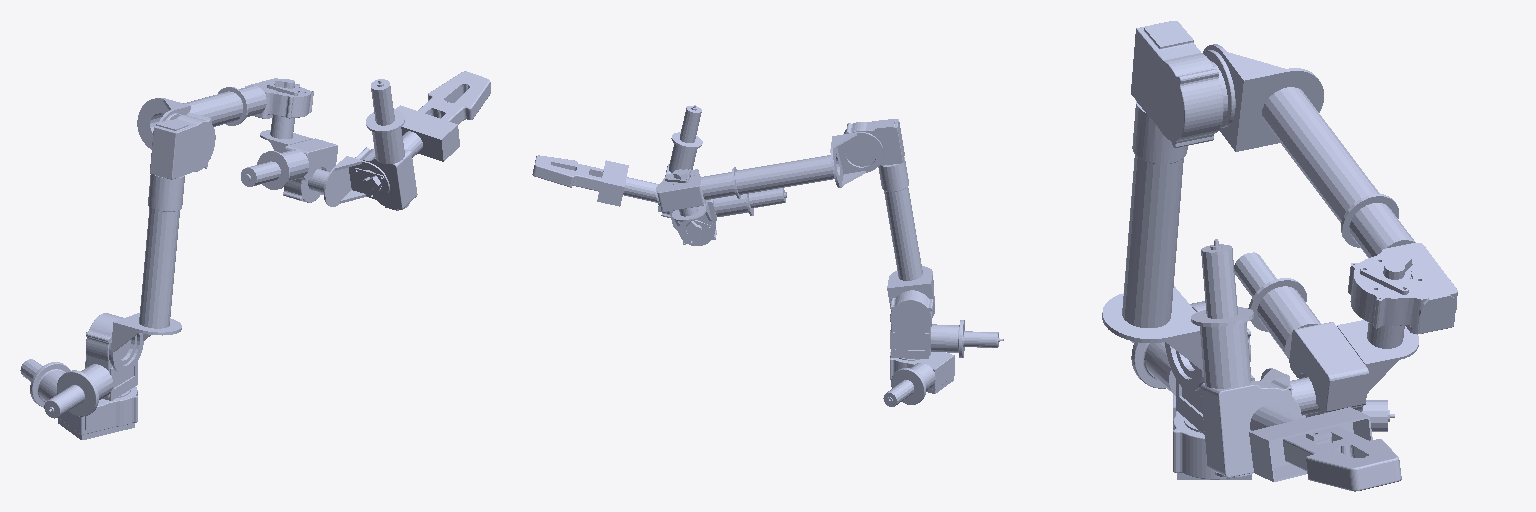
robot.urdf — deneme16:
<?xml version="1.0" encoding="utf-8"?>
<!-- This URDF was automatically created by SolidWorks to URDF Exporter! Originally created by [author] ([email redacted]) 
     Commit Version: 1.6.0-1-g15f4949  Build Version: 1.6.7594.29634
     For more information, please see http://wiki.ros.org/sw_urdf_exporter -->
<robot
  name="deneme16">

  <link name="world"> </link>
  <joint name="dummy_joint" type="fixed">
    <origin xyz="0 0 0" rpy="0 0 0"/>
    <parent link="world"/>
    <child link="base_link"/>
  </joint>

  <link
    name="base_link">
    <inertial>
      <origin
        xyz="-0.0542341068703452 0.0675948685686234 0.0313556778042014"
        rpy="0 0 0" />
      <mass
        value="0.740526244302131" />
      <inertia
        ixx="0.00207135317797409"
        ixy="0.000441549375992959"
        ixz="3.04066808160143E-05"
        iyy="0.000922136149425879"
        iyz="-0.000121847666080401"
        izz="0.00262750332404895" />
    </inertial>
    <visual>
      <origin
        xyz="0 0 0"
        rpy="0 0 0" />
      <geometry>
        <mesh
          filename="package://deneme16/meshes/base_link.STL" />
      </geometry>
      <material
        name="">
        <color
          rgba="0.792156862745098 0.819607843137255 0.933333333333333 1" />
      </material>
    </visual>
    <collision>
      <origin
        xyz="0 0 0"
        rpy="0 0 0" />
      <geometry>
        <mesh
          filename="package://deneme16/meshes/base_link.STL" />
      </geometry>
    </collision>
  </link>
  <link
    name="link_1">
    <inertial>
      <origin
        xyz="0.0563922003354066 0.0295380738737359 0.0117055663612383"
        rpy="0 0 0" />
      <mass
        value="0.70671764820646" />
      <inertia
        ixx="0.00194089525200429"
        ixy="0.000430757616896897"
        ixz="0.000126720562963551"
        iyy="0.000980020835821606"
        iyz="-0.000477646338854546"
        izz="0.00234570033722001" />
    </inertial>
    <visual>
      <origin
        xyz="0 0 0"
        rpy="0 0 0" />
      <geometry>
        <mesh
          filename="package://deneme16/meshes/link_1.STL" />
      </geometry>
      <material
        name="">
        <color
          rgba="0.792156862745098 0.819607843137255 0.933333333333333 1" />
      </material>
    </visual>
    <collision>
      <origin
        xyz="0 0 0"
        rpy="0 0 0" />
      <geometry>
        <mesh
          filename="package://deneme16/meshes/link_1.STL" />
      </geometry>
    </collision>
  </link>
  <joint
    name="joint_1"
    type="revolute">
    <origin
      xyz="-0.022 0.039 0.053371"
      rpy="1.731 -1.5708 0" />
    <parent
      link="base_link" />
    <child
      link="link_1" />
    <axis
      xyz="1 0 0" />
    <limit
      lower="-3.14"
      upper="3.14"
      effort="200"
      velocity="20" />
  </joint>
  <link
    name="link_2">
    <inertial>
      <origin
        xyz="0.0605724796544812 0.268894582951781 0.0478990958098943"
        rpy="0 0 0" />
      <mass
        value="0.857612894315898" />
      <inertia
        ixx="0.00209575920536199"
        ixy="-0.000577783198589211"
        ixz="3.25501897094838E-05"
        iyy="0.00115615406946479"
        iyz="-1.43201857904065E-05"
        izz="0.00281128486223931" />
    </inertial>
    <visual>
      <origin
        xyz="0 0 0"
        rpy="0 0 0" />
      <geometry>
        <mesh
          filename="package://deneme16/meshes/link_2.STL" />
      </geometry>
      <material
        name="">
        <color
          rgba="0.792156862745098 0.819607843137255 0.933333333333333 1" />
      </material>
    </visual>
    <collision>
      <origin
        xyz="0 0 0"
        rpy="0 0 0" />
      <geometry>
        <mesh
          filename="package://deneme16/meshes/link_2.STL" />
      </geometry>
    </collision>
  </link>
  <joint
    name="joint_2"
    type="revolute">
    <origin
      xyz="0.09063 -0.0069794 0.029226"
      rpy="0 0.29102 -1.5708" />
    <parent
      link="link_1" />
    <child
      link="link_2" />
    <axis
      xyz="0 0 -1" />
    <limit
      lower="-3.14"
      upper="3.14"
      effort="200"
      velocity="20" />
  </joint>
  <link
    name="link_3">
    <inertial>
      <origin
        xyz="-0.225456306268306 -0.050103264114186 0.0445637536606487"
        rpy="0 0 0" />
      <mass
        value="0.500739434351218" />
      <inertia
        ixx="0.00041351591711629"
        ixy="-0.000338986154992068"
        ixz="-6.16909127959655E-05"
        iyy="0.00175634762440097"
        iyz="2.92810915397088E-07"
        izz="0.00180906267182259" />
    </inertial>
    <visual>
      <origin
        xyz="0 0 0"
        rpy="0 0 0" />
      <geometry>
        <mesh
          filename="package://deneme16/meshes/link_3.STL" />
      </geometry>
      <material
        name="">
        <color
          rgba="0.792156862745098 0.819607843137255 0.933333333333333 1" />
      </material>
    </visual>
    <collision>
      <origin
        xyz="0 0 0"
        rpy="0 0 0" />
      <geometry>
        <mesh
          filename="package://deneme16/meshes/link_3.STL" />
      </geometry>
    </collision>
  </link>
  <joint
    name="joint_3"
    type="revolute">
    <origin
      xyz="0.10509 0.33657 0.016"
      rpy="-3.1416 0 -3.1416" />
    <parent
      link="link_2" />
    <child
      link="link_3" />
    <axis
      xyz="0 0 -1" />
    <limit
      lower="-3.14"
      upper="3.14"
      effort="200"
      velocity="20" />
  </joint>
  <link
    name="link_4">
    <inertial>
      <origin
        xyz="0.0704225882332688 0.010484936981156 -0.0805417867010427"
        rpy="0 0 0" />
      <mass
        value="0.389981709207388" />
      <inertia
        ixx="0.000561432406983857"
        ixy="0.000513321561672825"
        ixz="-6.71245703518869E-05"
        iyy="0.000946524274894303"
        iyz="3.22218707708812E-05"
        izz="0.00124715163770403" />
    </inertial>
    <visual>
      <origin
        xyz="0 0 0"
        rpy="0 0 0" />
      <geometry>
        <mesh
          filename="package://deneme16/meshes/link_4.STL" />
      </geometry>
      <material
        name="">
        <color
          rgba="0.792156862745098 0.819607843137255 0.933333333333333 1" />
      </material>
    </visual>
    <collision>
      <origin
        xyz="0 0 0"
        rpy="0 0 0" />
      <geometry>
        <mesh
          filename="package://deneme16/meshes/link_4.STL" />
      </geometry>
    </collision>
  </link>
  <joint
    name="joint_4"
    type="revolute">
    <origin
      xyz="-0.36016 -0.077968 0.019"
      rpy="-1.5708 0.63497 0.21475" />
    <parent
      link="link_3" />
    <child
      link="link_4" />
    <axis
      xyz="0 0 1" />
    <limit
      lower="-3.14"
      upper="3.14"
      effort="200"
      velocity="20" />
  </joint>
  <link
    name="link_5">
    <inertial>
      <origin
        xyz="0.0352891618565995 0.0586871859326141 0.096416325485137"
        rpy="0 0 0" />
      <mass
        value="0.39018069934749" />
      <inertia
        ixx="0.0012335058739028"
        ixy="0.00023899163897432"
        ixz="-2.18789256159232E-06"
        iyy="0.000257485020801852"
        iyz="-8.06535585525359E-05"
        izz="0.00123676291099623" />
    </inertial>
    <visual>
      <origin
        xyz="0 0 0"
        rpy="0 0 0" />
      <geometry>
        <mesh
          filename="package://deneme16/meshes/link_5.STL" />
      </geometry>
      <material
        name="">
        <color
          rgba="0.792156862745098 0.819607843137255 0.933333333333333 1" />
      </material>
    </visual>
    <collision>
      <origin
        xyz="0 0 0"
        rpy="0 0 0" />
      <geometry>
        <mesh
          filename="package://deneme16/meshes/link_5.STL" />
      </geometry>
    </collision>
  </link>
  <joint
    name="joint_5"
    type="revolute">
    <origin
      xyz="0.044269 0.058673 -0.11558"
      rpy="1.5708 -0.21474 2.4952" />
    <parent
      link="link_4" />
    <child
      link="link_5" />
    <axis
      xyz="0 0 -1" />
    <limit
      lower="-3.14"
      upper="3.14"
      effort="200"
      velocity="20" />
  </joint>
  <link
    name="link_6">
    <inertial>
      <origin
        xyz="-3.98654231892337E-06 9.67696532803708E-05 0.0645918334757605"
        rpy="0 0 0" />
      <mass
        value="0.178725424646369" />
      <inertia
        ixx="0.00028907679157409"
        ixy="-2.5171384782253E-06"
        ixz="3.31613474427344E-08"
        iyy="0.000350074319672543"
        iyz="-8.04961251532614E-07"
        izz="0.000110299037169579" />
    </inertial>
    <visual>
      <origin
        xyz="0 0 0"
        rpy="0 0 0" />
      <geometry>
        <mesh
          filename="package://deneme16/meshes/link_6.STL" />
      </geometry>
      <material
        name="">
        <color
          rgba="0.792156862745098 0.819607843137255 0.933333333333333 1" />
      </material>
    </visual>
    <collision>
      <origin
        xyz="0 0 0"
        rpy="0 0 0" />
      <geometry>
        <mesh
          filename="package://deneme16/meshes/link_6.STL" />
      </geometry>
    </collision>
  </link>
  <joint
    name="joint_6"
    type="revolute">
    <origin
      xyz="0.072015 0.014701 0.087"
      rpy="1.5708 1.5683 1.7722" />
    <parent
      link="link_5" />
    <child
      link="link_6" />
    <axis
      xyz="0 0 1" />
    <limit
      lower="-3.14"
      upper="3.14"
      effort="200"
      velocity="20" />
  </joint>
  <link
    name="gripper_right_link">
    <inertial>
      <origin
        xyz="0.0198374183882344 0.0793385223120242 0.000833464124512212"
        rpy="0 0 0" />
      <mass
        value="0.105002755868146" />
      <inertia
        ixx="0.000215304943523066"
        ixy="5.51595405523573E-06"
        ixz="-2.46891497464945E-07"
        iyy="1.44146058304726E-05"
        iyz="-1.38737099116705E-06"
        izz="0.000218676111081576" />
    </inertial>
    <visual>
      <origin
        xyz="0 0 0"
        rpy="0 0 0" />
      <geometry>
        <mesh
          filename="package://deneme16/meshes/gripper_right_link.STL" />
      </geometry>
      <material
        name="">
        <color
          rgba="0.792156862745098 0.819607843137255 0.933333333333333 1" />
      </material>
    </visual>
    <collision>
      <origin
        xyz="0 0 0"
        rpy="0 0 0" />
      <geometry>
        <mesh
          filename="package://deneme16/meshes/gripper_right_link.STL" />
      </geometry>
    </collision>
  </link>
  <joint
    name="gripper_right_joint"
    type="revolute">
    <origin
      xyz="0 0 0.118"
      rpy="1.5708 0.0087917 -3.1004" />
    <parent
      link="link_6" />
    <child
      link="gripper_right_link" />
    <axis
      xyz="0 0 1" />
    <limit
      lower="-0.45"
      upper="0.0"
      effort="200"
      velocity="20" />
  </joint>
  <link
    name="gripper_left_link">
    <inertial>
      <origin
        xyz="0.0198374183882342 0.0793385223120242 -0.00116653587548787"
        rpy="0 0 0" />
      <mass
        value="0.105002755868146" />
      <inertia
        ixx="0.000215304943523066"
        ixy="5.51595405523623E-06"
        ixz="-2.46891497464946E-07"
        iyy="1.44146058304726E-05"
        iyz="-1.38737099116669E-06"
        izz="0.000218676111081575" />
    </inertial>
    <visual>
      <origin
        xyz="0 0 0"
        rpy="0 0 0" />
      <geometry>
        <mesh
          filename="package://deneme16/meshes/gripper_left_link.STL" />
      </geometry>
      <material
        name="">
        <color
          rgba="0.792156862745098 0.819607843137255 0.933333333333333 1" />
      </material>
    </visual>
    <collision>
      <origin
        xyz="0 0 0"
        rpy="0 0 0" />
      <geometry>
        <mesh
          filename="package://deneme16/meshes/gripper_left_link.STL" />
      </geometry>
    </collision>
  </link>
  <joint
    name="gripper_left_joint"
    type="revolute">
    <origin
      xyz="0 0 0.118"
      rpy="1.5708 -0.0087917 0.041173" />
    <parent
      link="link_6" />
    <child
      link="gripper_left_link" />
    <axis
      xyz="0 0 1" />
    <limit
      lower="-0.45"
      upper="0.0"
      effort="200"
      velocity="20" />
  </joint>
  <!-- gazebo plugin -->

<gazebo>
 <plugin name="gazebo_ros_control" filename="libgazebo_ros_control.so">
  <robotSimType>gazebo_ros_control/DefaultRobotHWSim</robotSimType>
  <legacyModeNS>true</legacyModeNS> 
  <controlPeriod>0.001</controlPeriod>
  <robotNamespace></robotNamespace>
    </plugin>
  </gazebo>

<transmission name="tran1">
    <type>transmission_interface/SimpleTransmission</type>
    <joint name="joint_1">
      <hardwareInterface>hardware_interface/PositionJointInterface</hardwareInterface>
    </joint>
    <actuator name="motor1">
      <hardwareInterface>hardware_interface/PositionJointInterface</hardwareInterface>
      <mechanicalReduction>1</mechanicalReduction>
    </actuator>
</transmission>

<transmission name="tran2">
    <type>transmission_interface/SimpleTransmission</type>
    <joint name="joint_2">
      <hardwareInterface>hardware_interface/PositionJointInterface</hardwareInterface>
    </joint>
    <actuator name="motor2">
      <hardwareInterface>hardware_interface/PositionJointInterface</hardwareInterface>
      <mechanicalReduction>1</mechanicalReduction>
    </actuator>
</transmission>

<transmission name="tran3">
    <type>transmission_interface/SimpleTransmission</type>
    <joint name="joint_3">
      <hardwareInterface>hardware_interface/PositionJointInterface</hardwareInterface>
    </joint>
    <actuator name="motor3">
      <hardwareInterface>hardware_interface/PositionJointInterface</hardwareInterface>
      <mechanicalReduction>1</mechanicalReduction>
    </actuator>
</transmission>

<transmission name="tran4">
    <type>transmission_interface/SimpleTransmission</type>
    <joint name="joint_4">
      <hardwareInterface>hardware_interface/PositionJointInterface</hardwareInterface>
    </joint>
    <actuator name="motor4">
      <hardwareInterface>hardware_interface/PositionJointInterface</hardwareInterface>
      <mechanicalReduction>1</mechanicalReduction>
    </actuator>
</transmission>

<transmission name="tran5">
    <type>transmission_interface/SimpleTransmission</type>
    <joint name="joint_5">
      <hardwareInterface>hardware_interface/PositionJointInterface</hardwareInterface>
    </joint>
    <actuator name="motor5">
      <hardwareInterface>hardware_interface/PositionJointInterface</hardwareInterface>
      <mechanicalReduction>1</mechanicalReduction>
    </actuator>
</transmission>

<transmission name="tran6">
    <type>transmission_interface/SimpleTransmission</type>
    <joint name="joint_6">
      <hardwareInterface>hardware_interface/PositionJointInterface</hardwareInterface>
    </joint>
    <actuator name="motor6">
      <hardwareInterface>hardware_interface/PositionJointInterface</hardwareInterface>
      <mechanicalReduction>1</mechanicalReduction>
    </actuator>
</transmission>

<transmission name="tran_gripper_right">
    <type>transmission_interface/SimpleTransmission</type>
    <joint name="gripper_right_joint">
      <hardwareInterface>hardware_interface/PositionJointInterface</hardwareInterface>
    </joint>
    <actuator name="motor_gripper_right">
      <hardwareInterface>hardware_interface/PositionJointInterface</hardwareInterface>
      <mechanicalReduction>1</mechanicalReduction>
    </actuator>
</transmission>

<transmission name="tran_gripper_left">
    <type>transmission_interface/SimpleTransmission</type>
    <joint name="gripper_left_joint">
      <hardwareInterface>hardware_interface/PositionJointInterface</hardwareInterface>
    </joint>
    <actuator name="motor_gripper_left">
      <hardwareInterface>hardware_interface/PositionJointInterface</hardwareInterface>
      <mechanicalReduction>1</mechanicalReduction>
    </actuator>
</transmission>


</robot>

--- What the picture shows (computed from the rendered views, not written in the file) ---
Views: 3 orthographic renders of the robot side by side, from view 1: azimuth 30°, elevation 25°; view 2: azimuth 150°, elevation 25°; view 3: azimuth 270°, elevation 25°.
Robot: deneme16 — 10 links, 9 joints (8 revolute, 1 fixed); root link world; default pose: all joints at 0.
Visible links, largest first — view 1: link_2, link_5, link_3, link_1, link_4, base_link, link_6, gripper_right_link, gripper_left_link; view 2: link_3, link_2, link_1, link_4, base_link, link_6, link_5, gripper_left_link; view 3: link_2, link_3, link_5, link_4, link_6, gripper_right_link, link_1, base_link, gripper_left_link.
Boxes of the visible links, x1,y1,x2,y2 form: link_2: (111, 112, 215, 373); link_5: (306, 79, 417, 210); link_3: (137, 78, 313, 149); link_1: (44, 313, 137, 418); link_4: (241, 115, 337, 202); base_link: (20, 359, 137, 439); link_6: (395, 105, 459, 161); gripper_right_link: (440, 75, 490, 124); gripper_left_link: (418, 71, 476, 118); link_3: (656, 132, 883, 211); link_2: (844, 119, 934, 315); link_1: (890, 290, 1003, 358); link_4: (669, 188, 786, 245); base_link: (883, 352, 954, 406); link_6: (597, 160, 657, 206); link_5: (658, 105, 702, 220); gripper_left_link: (532, 160, 601, 191); link_2: (1102, 21, 1235, 391); link_3: (1203, 44, 1457, 334); link_5: (1191, 239, 1322, 477); link_4: (1234, 252, 1418, 417); link_6: (1249, 401, 1372, 481); gripper_right_link: (1283, 436, 1378, 491); link_1: (1131, 301, 1254, 434); base_link: (1173, 394, 1394, 479); gripper_left_link: (1306, 426, 1401, 485).
Bounding box of the posed robot: 0.9597 × 0.3607 × 0.5343 m (x, y, z).
Meshes: 9 distinct files referenced, 9 mesh visuals loaded (9 binary STL).
